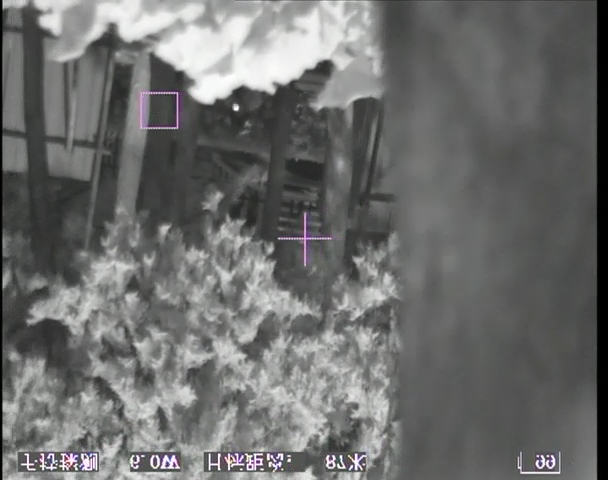my: (230, 102, 241, 114)
